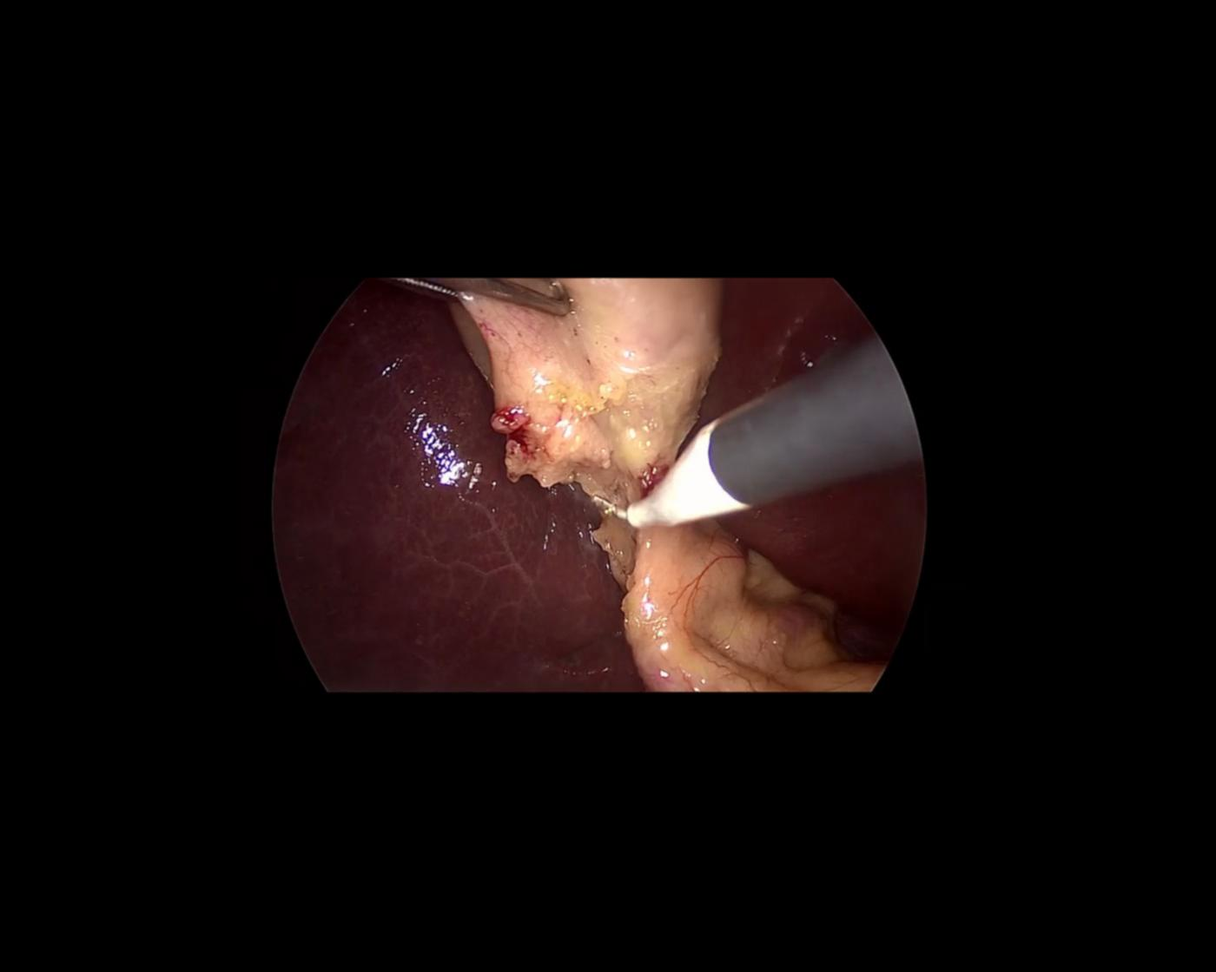Cautery: (582, 332, 938, 600)
Forceps: (385, 279, 574, 316)
Gallbladder: (451, 279, 726, 483)
Liver: (271, 276, 645, 694), (656, 262, 960, 634)
